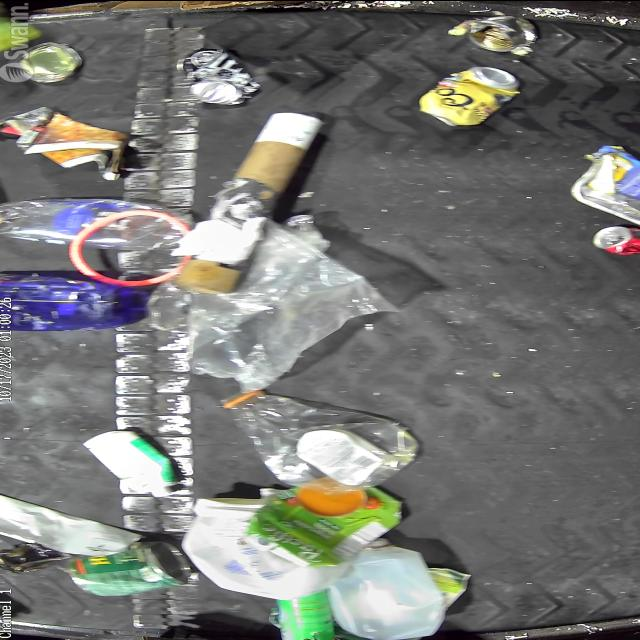can: (66, 540, 190, 596), (420, 67, 520, 127), (20, 38, 86, 82), (467, 15, 539, 54), (590, 222, 640, 261)
milk_jug: (182, 496, 330, 600), (330, 541, 448, 640)
non_white_jug: (247, 481, 401, 565)
plastic_bottle: (226, 391, 418, 486)
